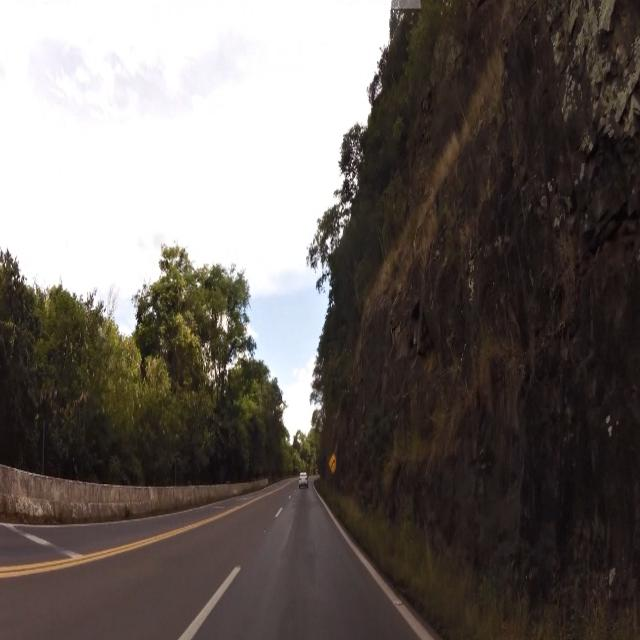A-2b: (330, 448, 338, 476)
